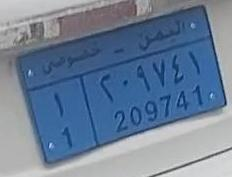city: (26, 77, 99, 163)
number: (83, 37, 227, 145)
text: (21, 6, 213, 89)
